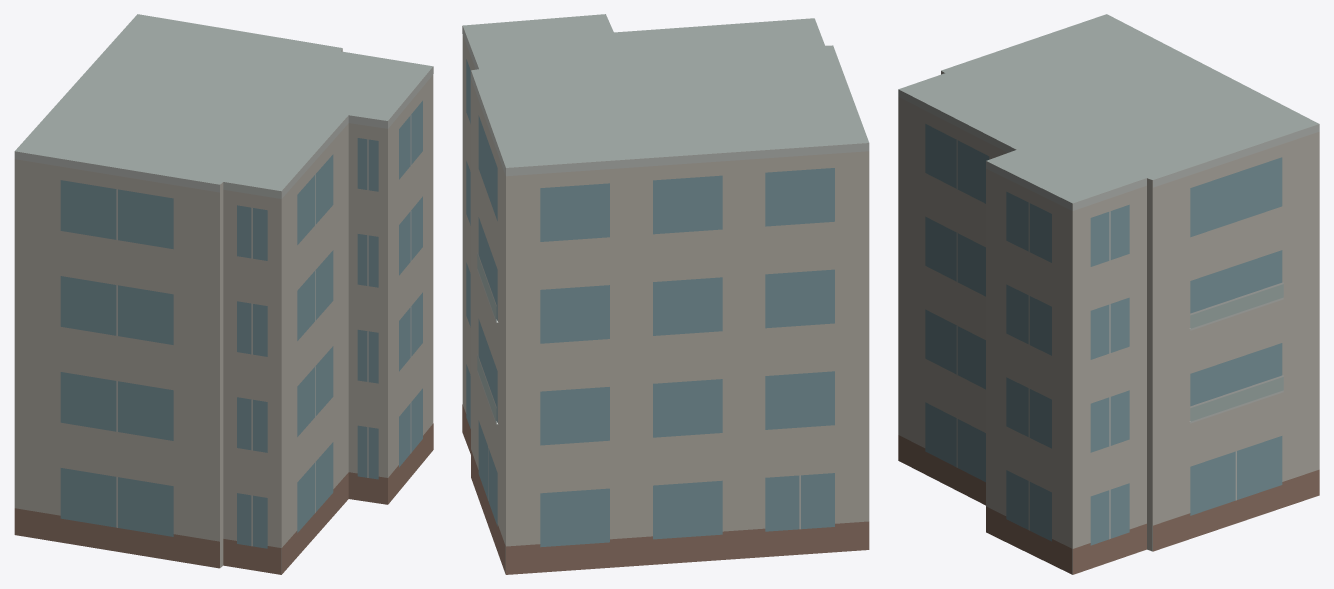
File: survey-upis-33012087.glb
3 views of the same model, side by side, from view 1: azimuth 30°, elevation 25°; view 2: azimuth 150°, elevation 25°; view 3: azimuth 270°, elevation 25° (orthographic). The views are drawn at different scales.
Parts seen in each view (by area): view 1: survey-upis-33012087.tmp; view 2: survey-upis-33012087.tmp; view 3: survey-upis-33012087.tmp.
Part boxes in pixels (box(x1,y1,x2,y2)): survey-upis-33012087.tmp: box(14, 14, 433, 574); survey-upis-33012087.tmp: box(462, 14, 869, 574); survey-upis-33012087.tmp: box(898, 14, 1319, 574).
Size of the model in its own units: 13.08 by 11.95 by 12.29.
